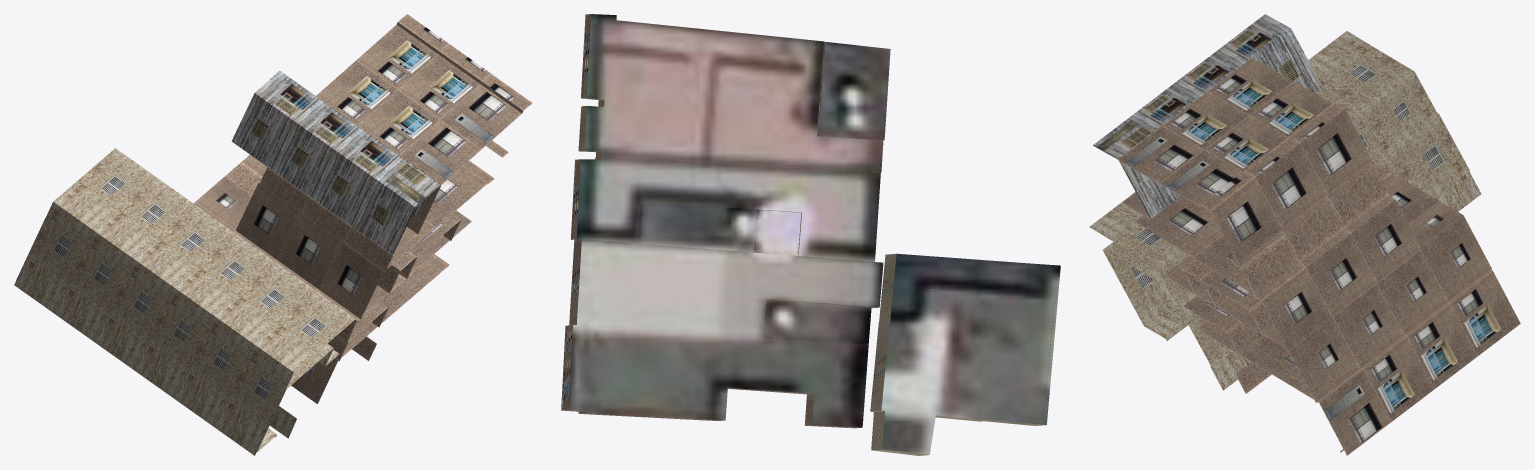
The picture shows the model from 3 angles, left to right: view 1: azimuth 30°, elevation 25°; view 2: azimuth 150°, elevation 25°; view 3: azimuth 270°, elevation 25°; orthographic projection. The views are drawn at different scales.
Size of the model in its own units: 31.74 by 23.4 by 24.73.
27 materials, 27 textured.
